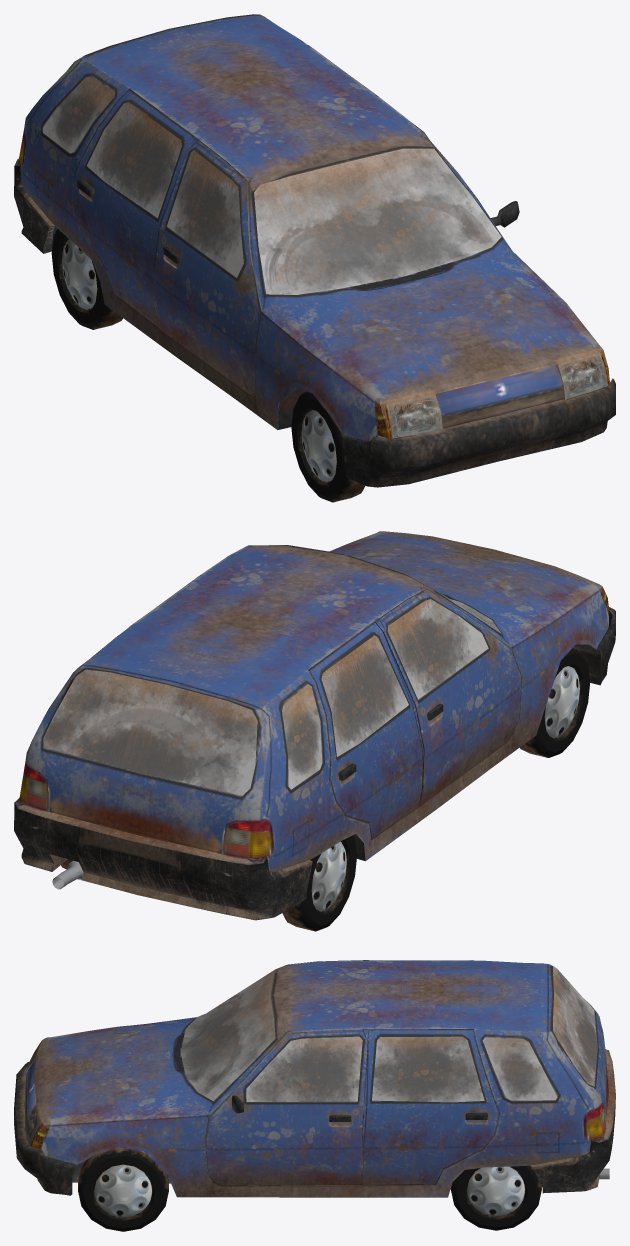
Rendered from Danarender.fbx.
3 renders of one model, top to bottom at view 1: azimuth 30°, elevation 25°; view 2: azimuth 150°, elevation 25°; view 3: azimuth 270°, elevation 25°, orthographic. The views are drawn at different scales.
Parts seen in each view (by area): view 1: Plane, glass.003, glass.004, Cylinder.002, Cylinder.003; view 2: Plane, glass.003, glass.004, Cylinder.002, Cylinder.003; view 3: Plane, Cube.001, Cube.006, Cylinder, Cylinder.001.
Part boxes in pixels (x1,y1,x2,y2): Plane: (14, 14, 615, 487); glass.003: (154, 137, 261, 396); glass.004: (73, 88, 194, 326); Cylinder.002: (291, 391, 367, 502); Cylinder.003: (51, 229, 122, 329); Plane: (14, 531, 615, 920); glass.003: (374, 589, 522, 806); glass.004: (307, 622, 423, 839); Cylinder.002: (520, 647, 590, 757); Cylinder.003: (282, 835, 356, 931); Plane: (14, 960, 615, 1197); Cube.001: (204, 1029, 368, 1185); Cube.006: (362, 1029, 498, 1185); Cylinder: (78, 1147, 168, 1231); Cylinder.001: (450, 1165, 541, 1230).
Bounding box in the file's own units: 139 × 114 × 320.
